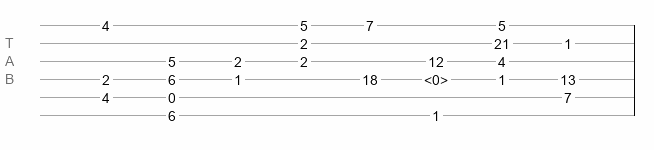0: (168, 90, 176, 100)
1: (234, 72, 242, 82), (432, 108, 440, 118), (498, 72, 506, 82), (564, 36, 572, 46)
12: (428, 54, 444, 64)
13: (560, 72, 576, 82)
18: (362, 72, 378, 82)
2: (102, 72, 110, 82), (234, 54, 242, 64), (300, 54, 308, 64), (300, 36, 308, 46)
21: (494, 36, 510, 46)
4: (102, 18, 110, 28), (102, 90, 110, 100), (498, 54, 506, 64)
5: (168, 54, 176, 64), (300, 18, 308, 28), (498, 18, 506, 28)
6: (168, 72, 176, 82), (168, 108, 176, 118)
7: (366, 18, 374, 28), (564, 90, 572, 100)
harmonic: (424, 72, 448, 82)
